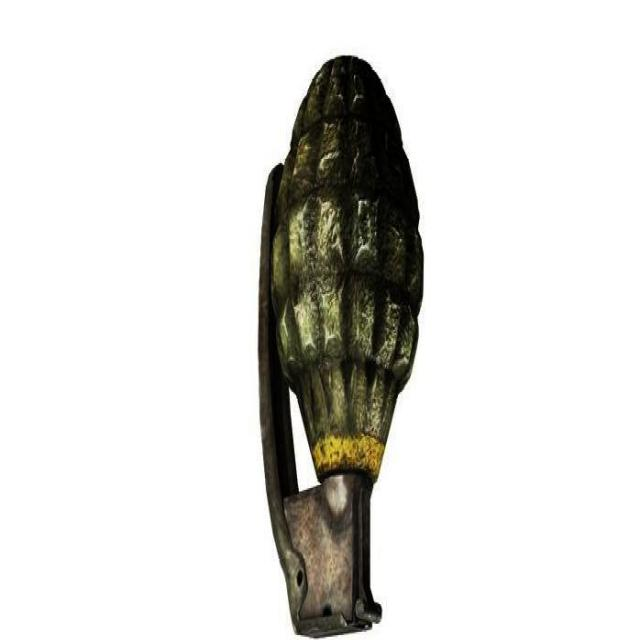grenade: (259, 57, 427, 640)
